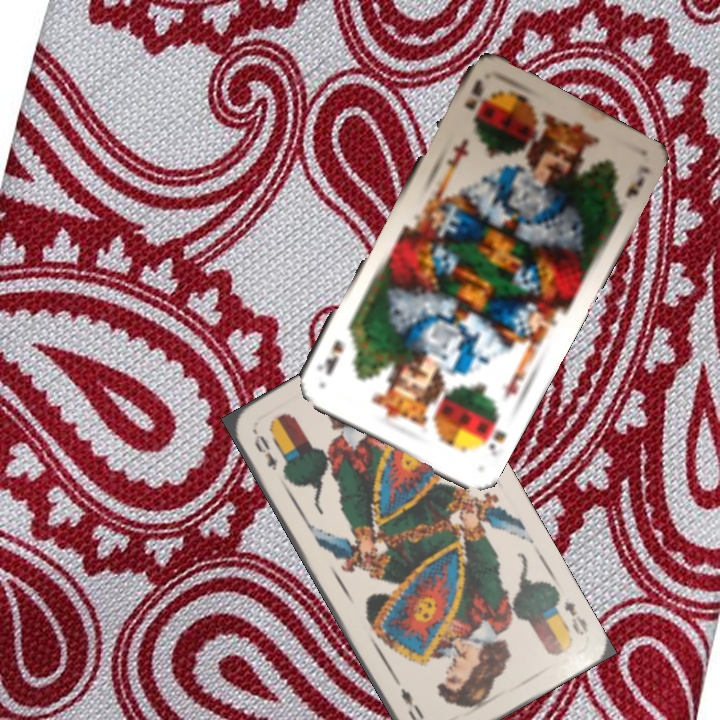EO: (250, 427, 281, 473), (560, 597, 591, 638)
SK: (474, 413, 509, 460), (461, 76, 486, 113)
